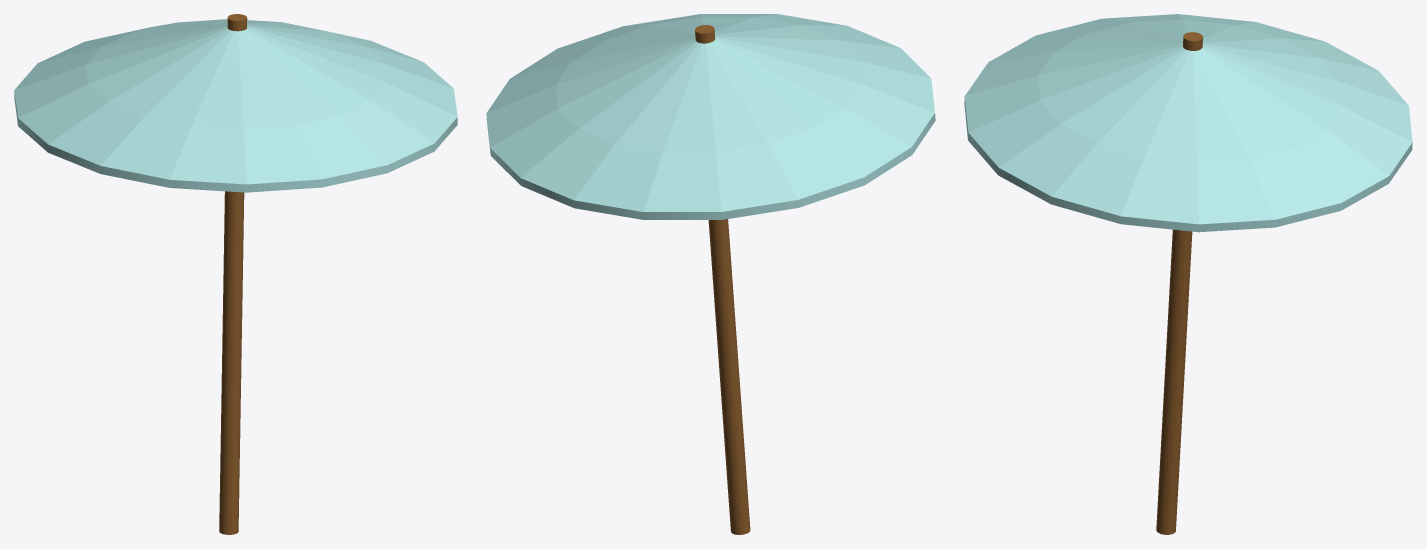
The model's file is Sombrilla 1.fbx.
3 views of the same model, side by side, from view 1: azimuth 30°, elevation 25°; view 2: azimuth 150°, elevation 25°; view 3: azimuth 270°, elevation 25° (orthographic).
Visible parts, largest first — view 1: Sombrilla; view 2: Sombrilla; view 3: Sombrilla.
Boxes of the visible parts, x1,y1,x2,y2 form: Sombrilla: [14, 14, 457, 534]; Sombrilla: [486, 14, 935, 534]; Sombrilla: [964, 14, 1412, 534].
Size of the model in its own units: 302 by 374 by 300.
